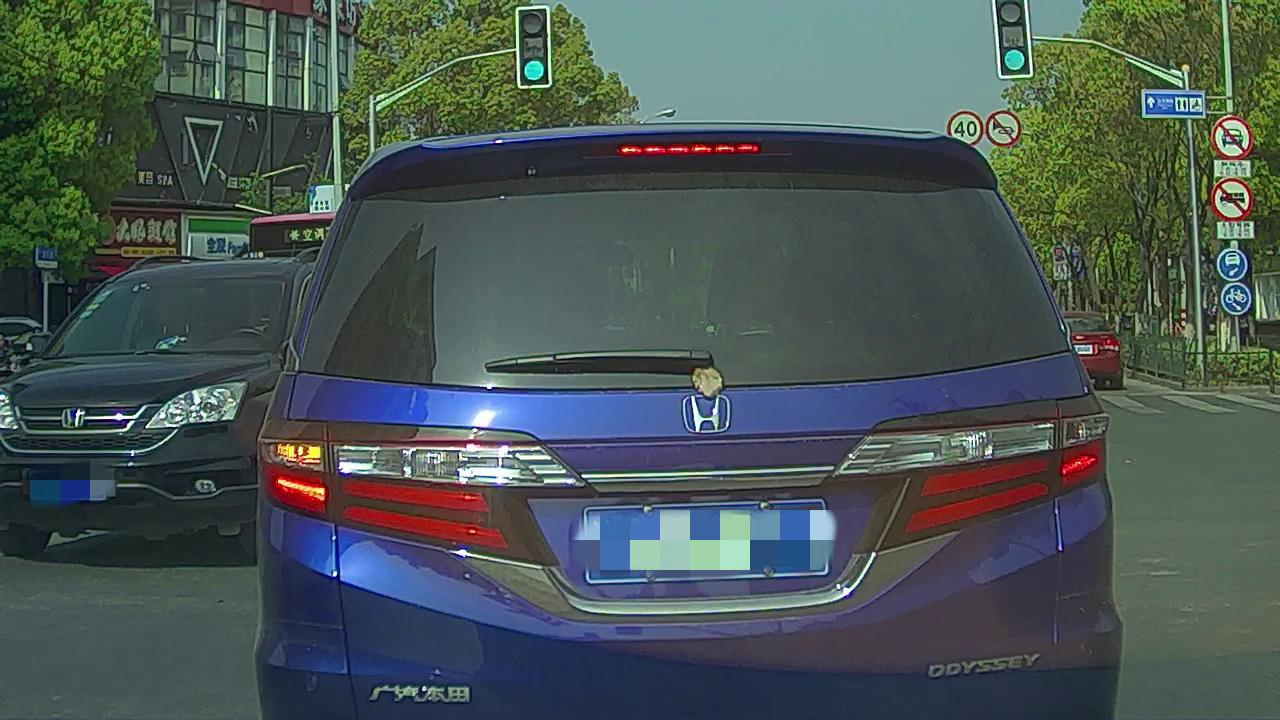traffic_light: (996, 1, 1031, 75), (516, 8, 549, 85)
